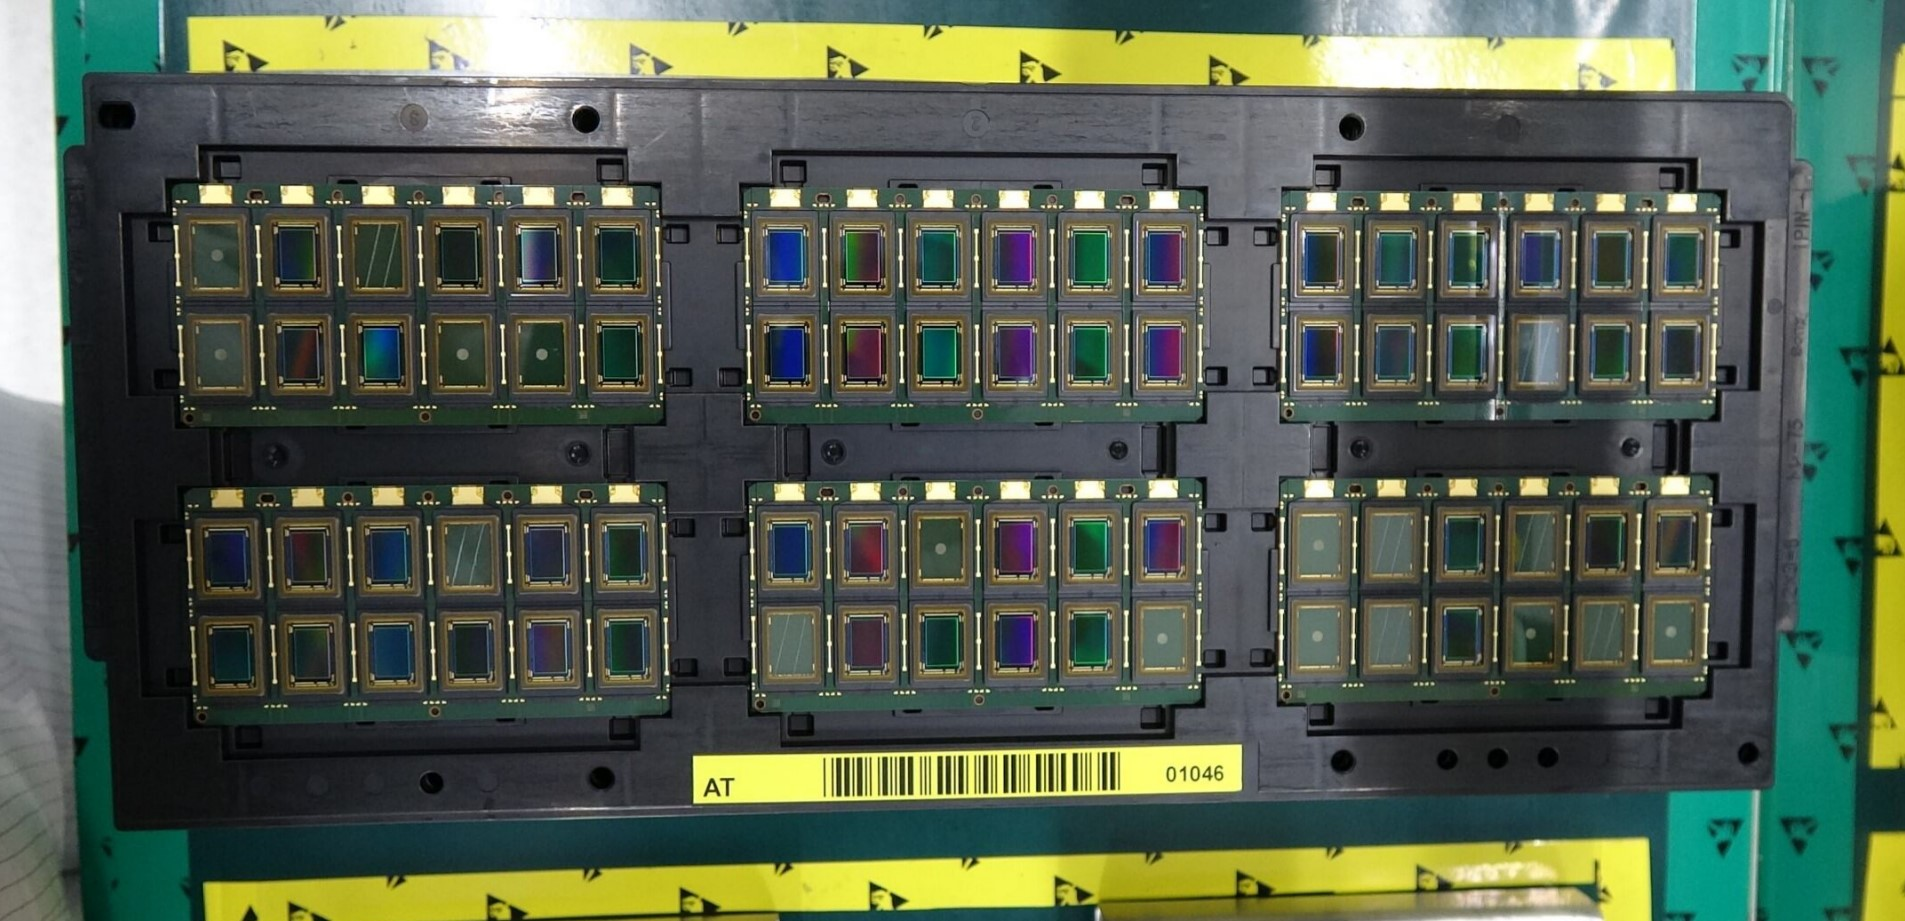Bad_mark_from_BMS_mold: (338, 209, 416, 299), (754, 604, 824, 689), (434, 513, 502, 595), (1358, 594, 1423, 680), (1573, 593, 1638, 676), (1359, 501, 1421, 584), (1507, 311, 1570, 391), (1503, 502, 1565, 582)
Bad_mark_from_Maker: (424, 310, 497, 399), (179, 210, 251, 296), (183, 312, 255, 400), (906, 504, 976, 594), (504, 310, 573, 399), (1287, 499, 1352, 588), (1130, 598, 1195, 680), (1503, 597, 1566, 677), (1288, 600, 1352, 678), (1643, 593, 1706, 672)
